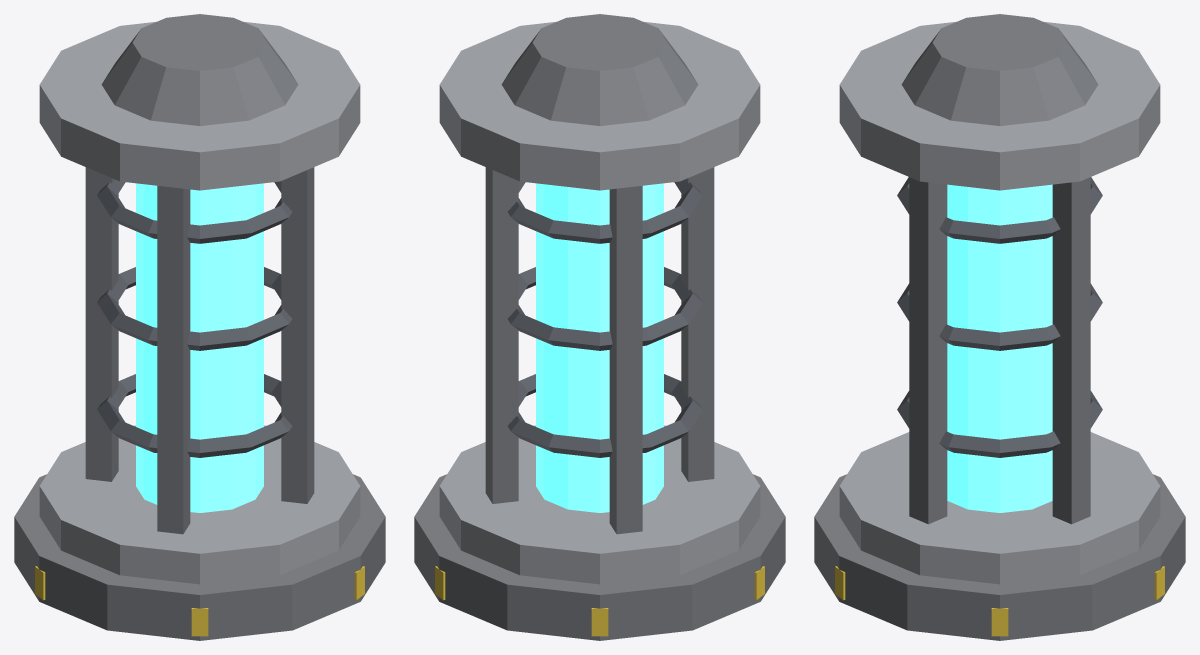
The model's file is SM_Reactor_Core.glb.
The picture shows the model from 3 angles, left to right: view 1: azimuth 30°, elevation 25°; view 2: azimuth 150°, elevation 25°; view 3: azimuth 270°, elevation 25°; orthographic projection.
Visible parts, largest first — view 1: SM_Reactor_Core; view 2: SM_Reactor_Core; view 3: SM_Reactor_Core.
Boxes of the visible parts, x1=… form: SM_Reactor_Core: x1=14, y1=14, x2=385, y2=640; SM_Reactor_Core: x1=414, y1=14, x2=785, y2=640; SM_Reactor_Core: x1=814, y1=14, x2=1185, y2=640.
Size of the model in its own units: 2.2 by 3.4 by 2.2.
